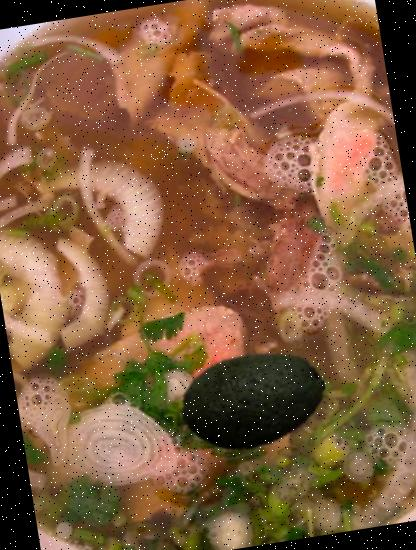Avocado: (169, 317, 338, 486)
